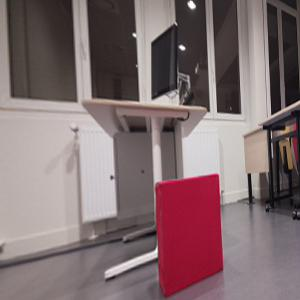medium: (152, 171, 227, 297)
